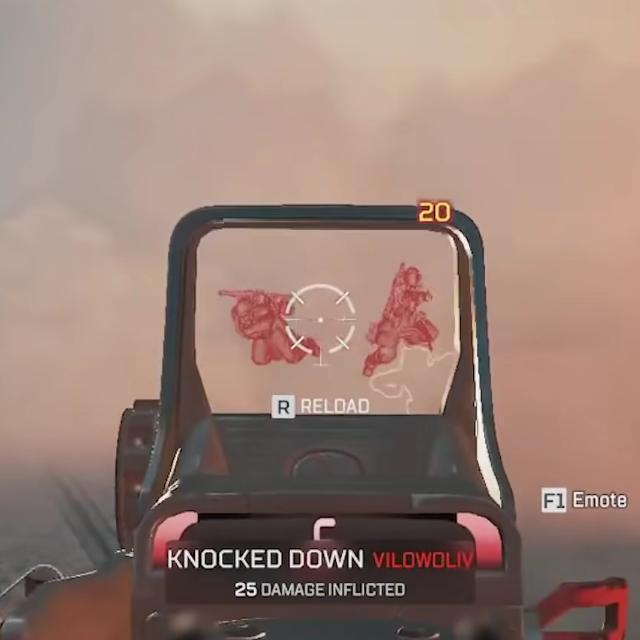avatar: (362, 263, 441, 379), (221, 288, 321, 367)
